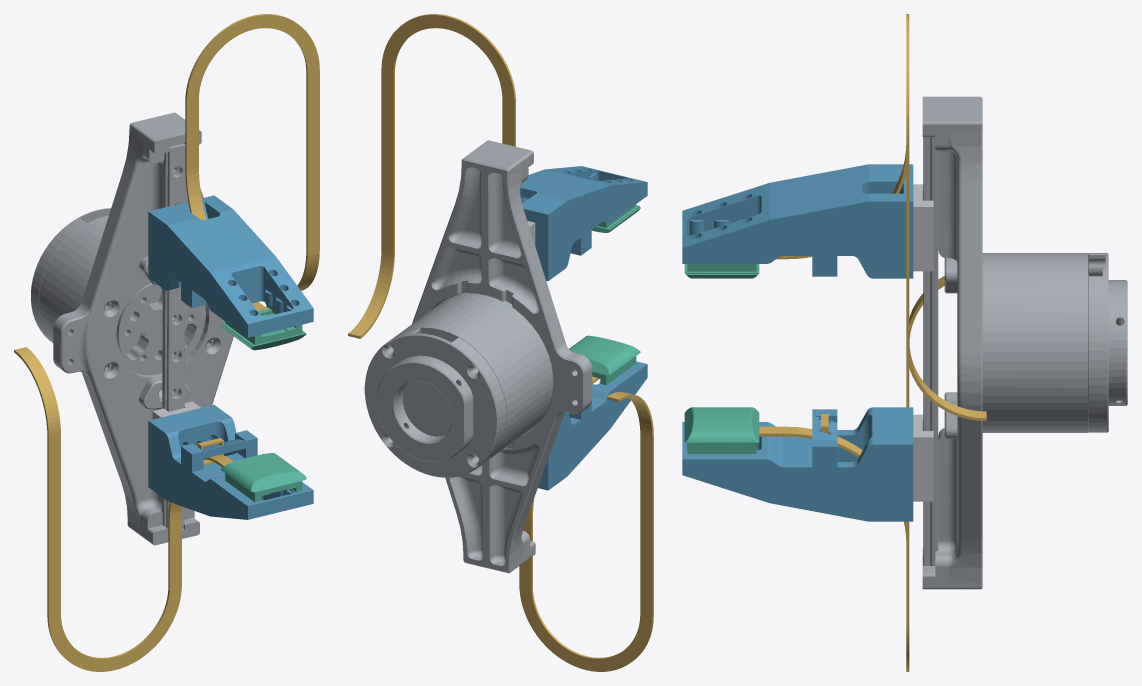
Rendered from assembly_open50.glb.
The picture shows the model from 3 angles, left to right: view 1: azimuth 30°, elevation 25°; view 2: azimuth 150°, elevation 25°; view 3: azimuth 270°, elevation 25°; orthographic projection. The views are drawn at different scales.
Visible parts, largest first — view 1: original_actuator_and_transmission, replacement_finger_2, replacement_finger_1, service_loop_envelope_1, service_loop_envelope_2, M2324_1, M2324_2, moving_harness_envelope_2; view 2: original_actuator_and_transmission, replacement_finger_2, service_loop_envelope_2, service_loop_envelope_1, replacement_finger_1, M2324_1; view 3: original_actuator_and_transmission, replacement_finger_2, replacement_finger_1, M2324_1, service_loop_envelope_2, retained_carrier_2, retained_carrier_1, M2324_2, service_loop_envelope_1, moving_harness_envelope_1.
Boxes of the visible parts, x1=… form: original_actuator_and_transmission: x1=31, y1=112, x2=233, y2=545; replacement_finger_2: x1=148, y1=195, x2=313, y2=337; replacement_finger_1: x1=148, y1=405, x2=313, y2=519; service_loop_envelope_1: x1=14, y1=347, x2=181, y2=671; service_loop_envelope_2: x1=185, y1=14, x2=319, y2=290; M2324_1: x1=221, y1=453, x2=306, y2=502; M2324_2: x1=220, y1=305, x2=306, y2=350; moving_harness_envelope_2: x1=185, y1=166, x2=265, y2=309; original_actuator_and_transmission: x1=364, y1=140, x2=592, y2=573; replacement_finger_2: x1=520, y1=166, x2=647, y2=280; service_loop_envelope_2: x1=348, y1=14, x2=515, y2=338; service_loop_envelope_1: x1=519, y1=391, x2=653, y2=671; replacement_finger_1: x1=538, y1=361, x2=647, y2=490; M2324_1: x1=569, y1=335, x2=640, y2=384; original_actuator_and_transmission: x1=922, y1=96, x2=1127, y2=589; replacement_finger_2: x1=682, y1=164, x2=913, y2=278; replacement_finger_1: x1=682, y1=407, x2=913, y2=521; M2324_1: x1=684, y1=407, x2=759, y2=453; service_loop_envelope_2: x1=906, y1=14, x2=986, y2=421; retained_carrier_2: x1=913, y1=184, x2=933, y2=271; retained_carrier_1: x1=913, y1=414, x2=933, y2=501; M2324_2: x1=684, y1=236, x2=759, y2=278; service_loop_envelope_1: x1=906, y1=276, x2=944, y2=671; moving_harness_envelope_1: x1=759, y1=426, x2=909, y2=543.
Bounding box in the file's own units: 0.1152 × 0.2516 × 0.1412.
